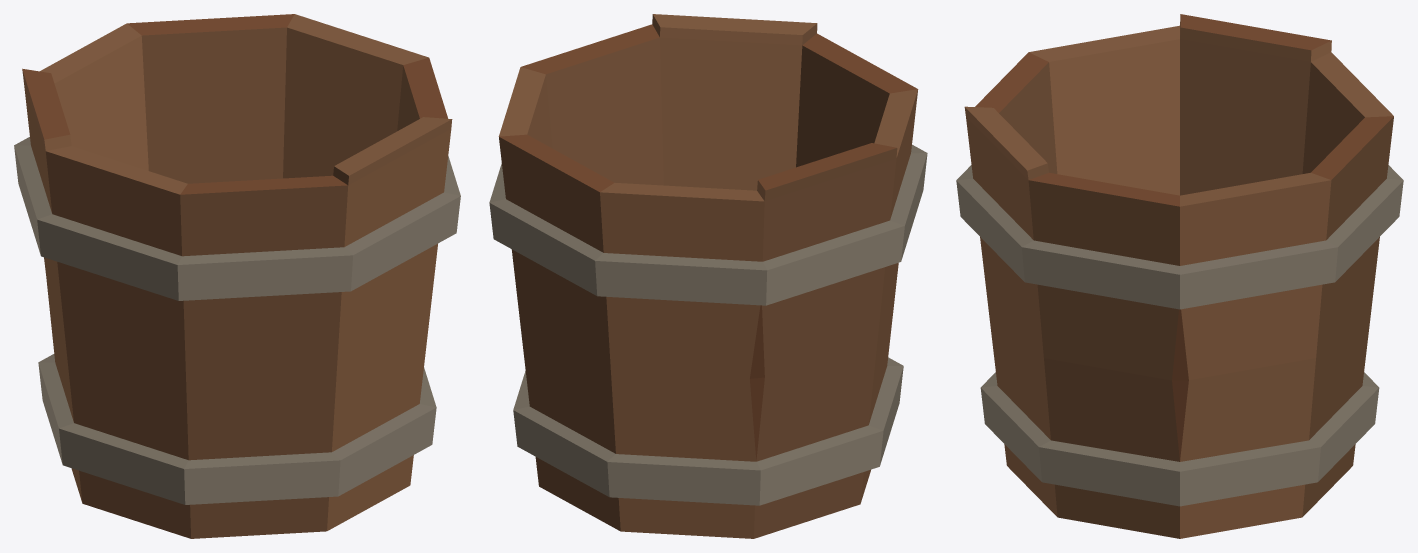
File: bucket.fbx
3 views of the same model, side by side, from view 1: azimuth 30°, elevation 25°; view 2: azimuth 150°, elevation 25°; view 3: azimuth 270°, elevation 25° (orthographic). The views are drawn at different scales.
Visible parts, largest first — view 1: bucket; view 2: bucket; view 3: bucket.
Boxes of the visible parts, box(x1,y1,x2,y2) form: bucket: box(14, 14, 460, 538); bucket: box(489, 14, 927, 538); bucket: box(956, 14, 1403, 538).
Size of the model in its own units: 46.39 by 41.28 by 46.39.
